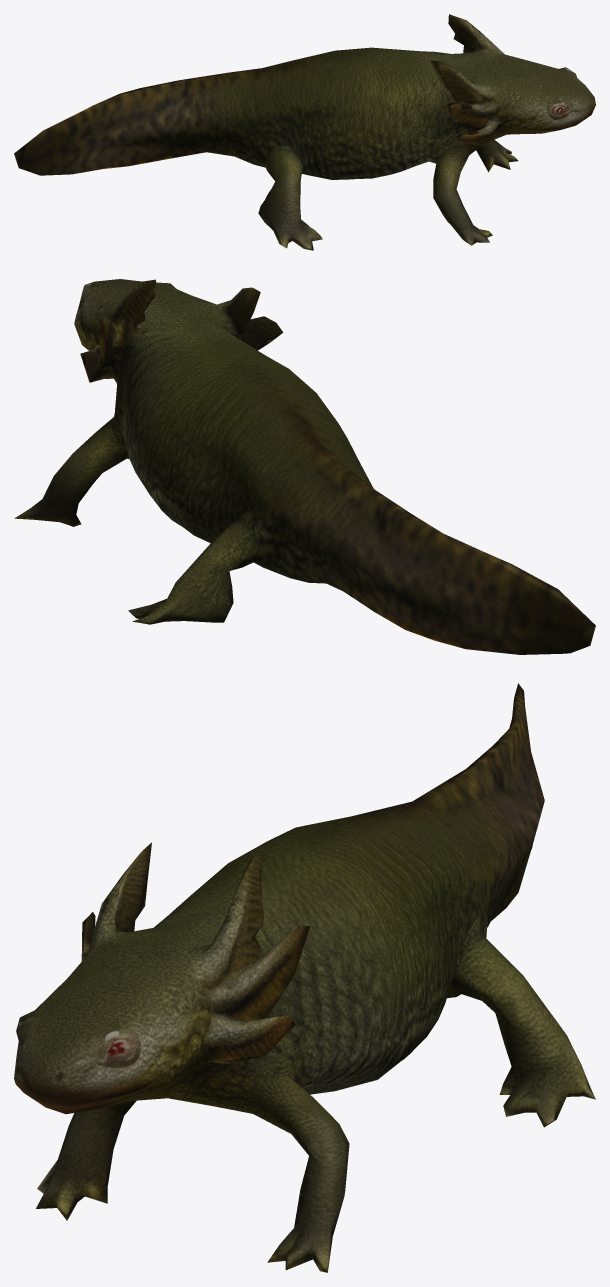
Rendered from axolotl_wild_single_1500.glb.
3 renders of one model, top to bottom at view 1: azimuth 30°, elevation 25°; view 2: azimuth 150°, elevation 25°; view 3: azimuth 270°, elevation 25°, orthographic. The views are drawn at different scales.
Bounding box in the file's own units: 0.8505 × 0.3244 × 0.462.
1 material, 1 textured.
